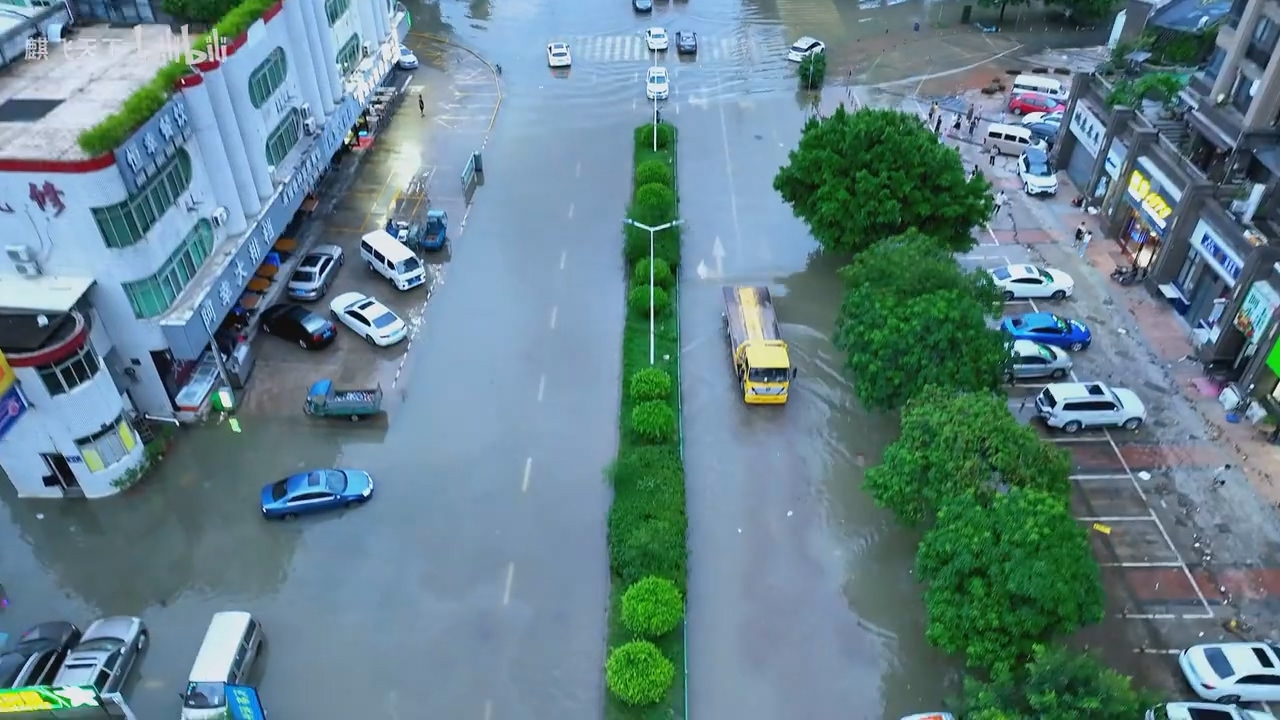puddle: (395, 195, 921, 720)
